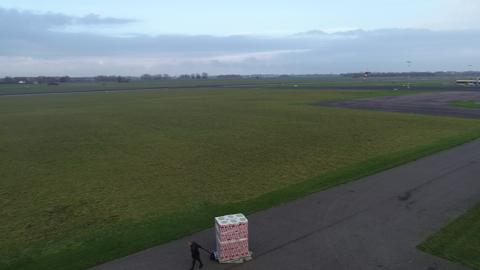RockwoolPallet: (217, 212, 251, 260)
